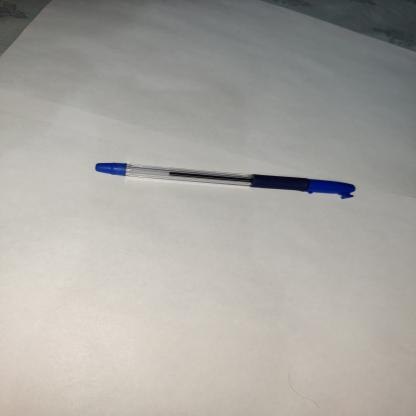pen: (87, 143, 369, 209)
